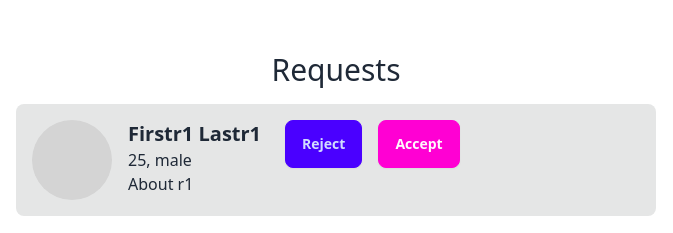
Test: Requests › accepts the last request and shows the empty message
Expected: the heading "Firstr1 Lastr1" is shown, [128,120,261,148]
Click the button "Accept". click: (419, 144)
box: [378,120,460,168]
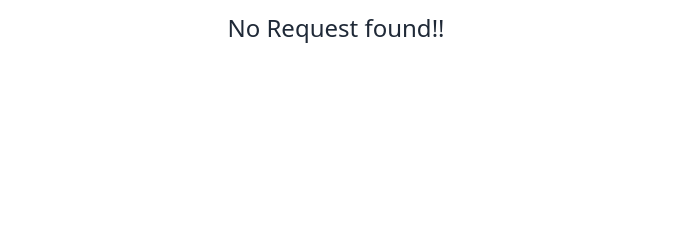
Expected: the heading "No Request found!!" is shown, [227,11,444,44]
